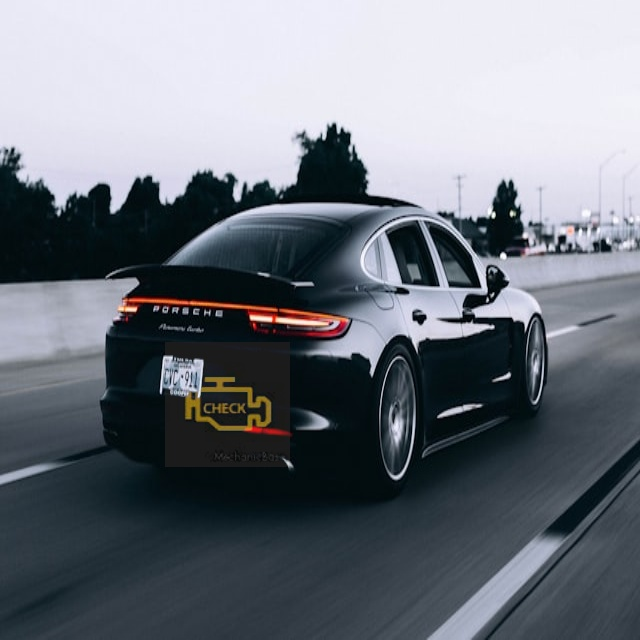symbol: (165, 342, 290, 467)
